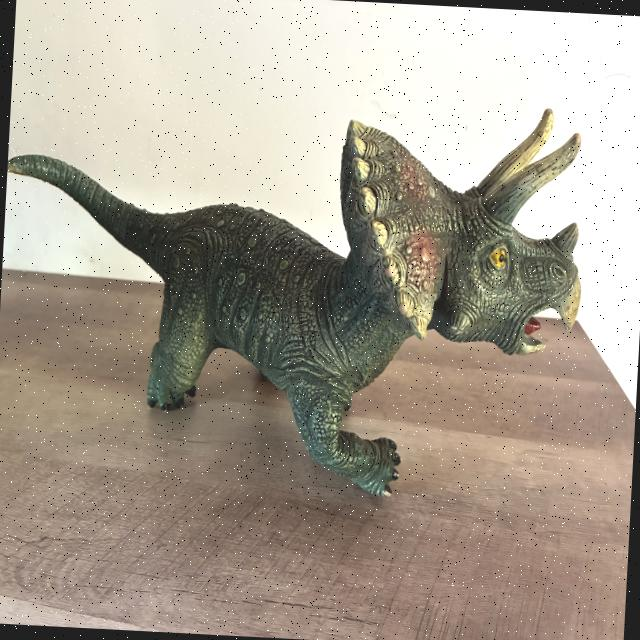dinosaur: (8, 109, 581, 496)
